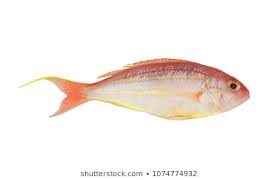Ikan Kerisi: (39, 60, 251, 123)
